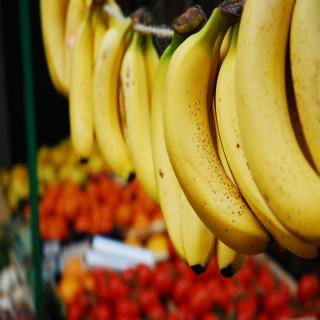Banana: (40, 0, 320, 277), (162, 5, 272, 256)
